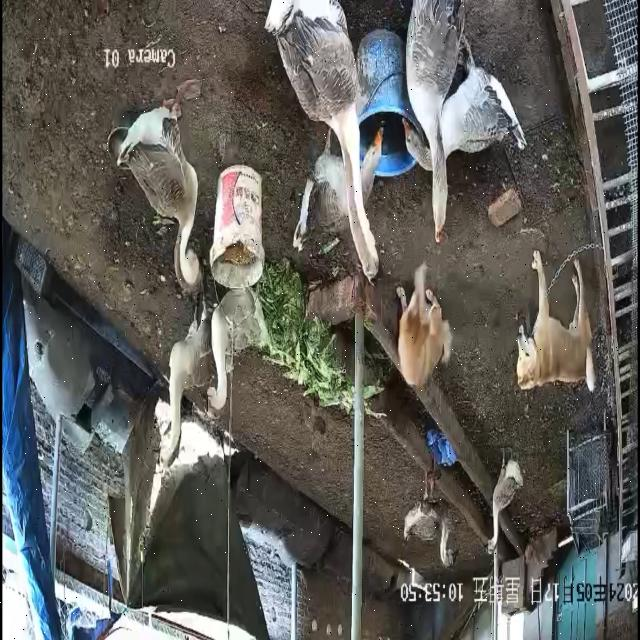dog: (518, 251, 599, 395), (396, 264, 455, 390)
